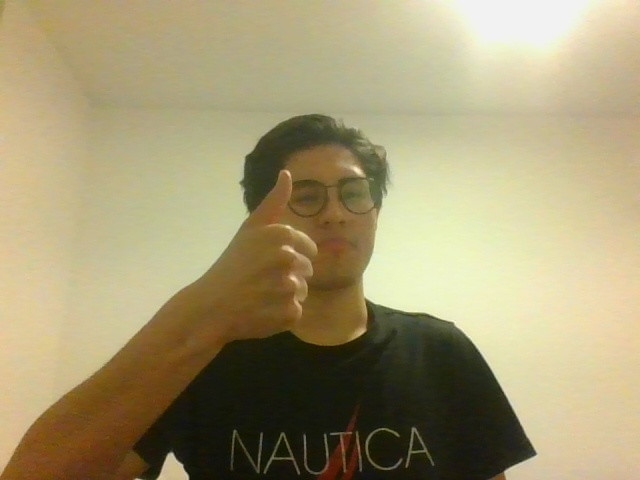thumbsup: (217, 165, 321, 344)
